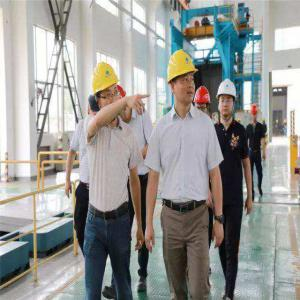red: (195, 85, 211, 118), (252, 104, 259, 123)
white: (217, 80, 238, 120)
yellow: (168, 50, 197, 105), (92, 61, 120, 115)
